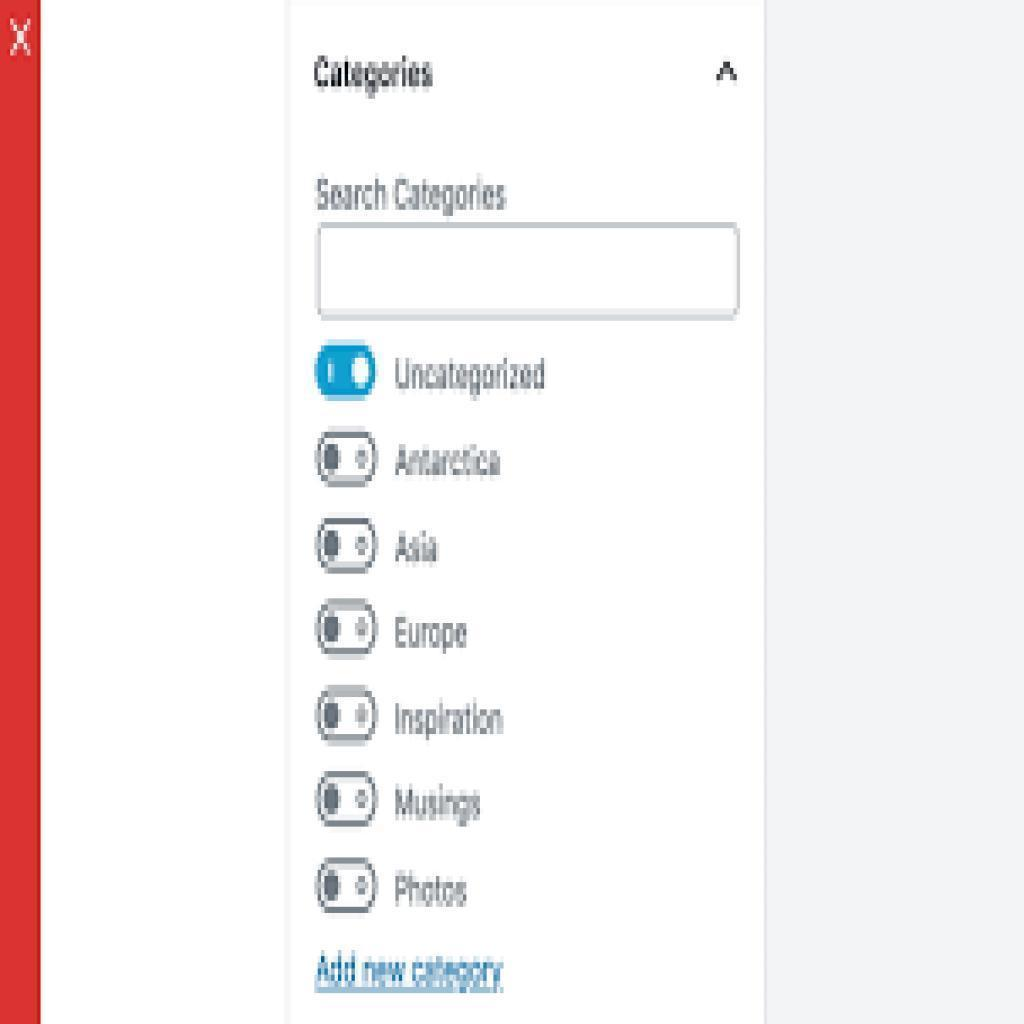dropdown: (296, 37, 751, 140)
input: (314, 222, 743, 324)
switch: (310, 333, 381, 407), (314, 684, 382, 748), (311, 426, 380, 489), (312, 511, 378, 575), (312, 598, 380, 659), (316, 854, 379, 919), (313, 768, 380, 827)
